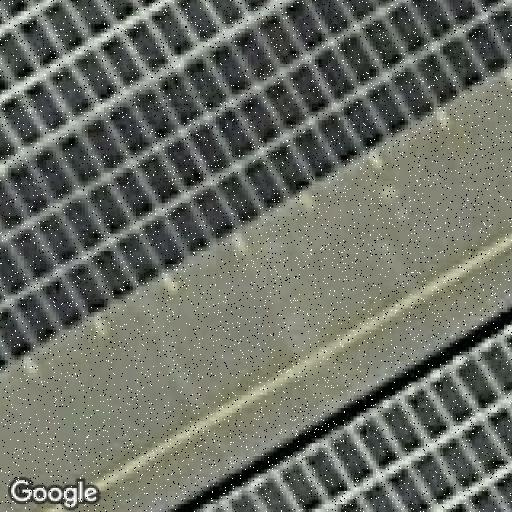solar-panel: (0, 0, 512, 370), (182, 328, 512, 512)
